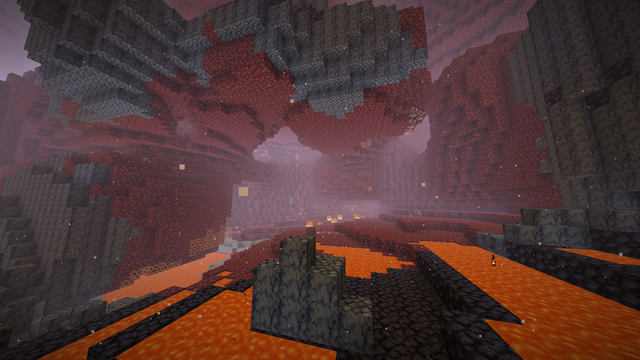quartz: (406, 107, 424, 131)
